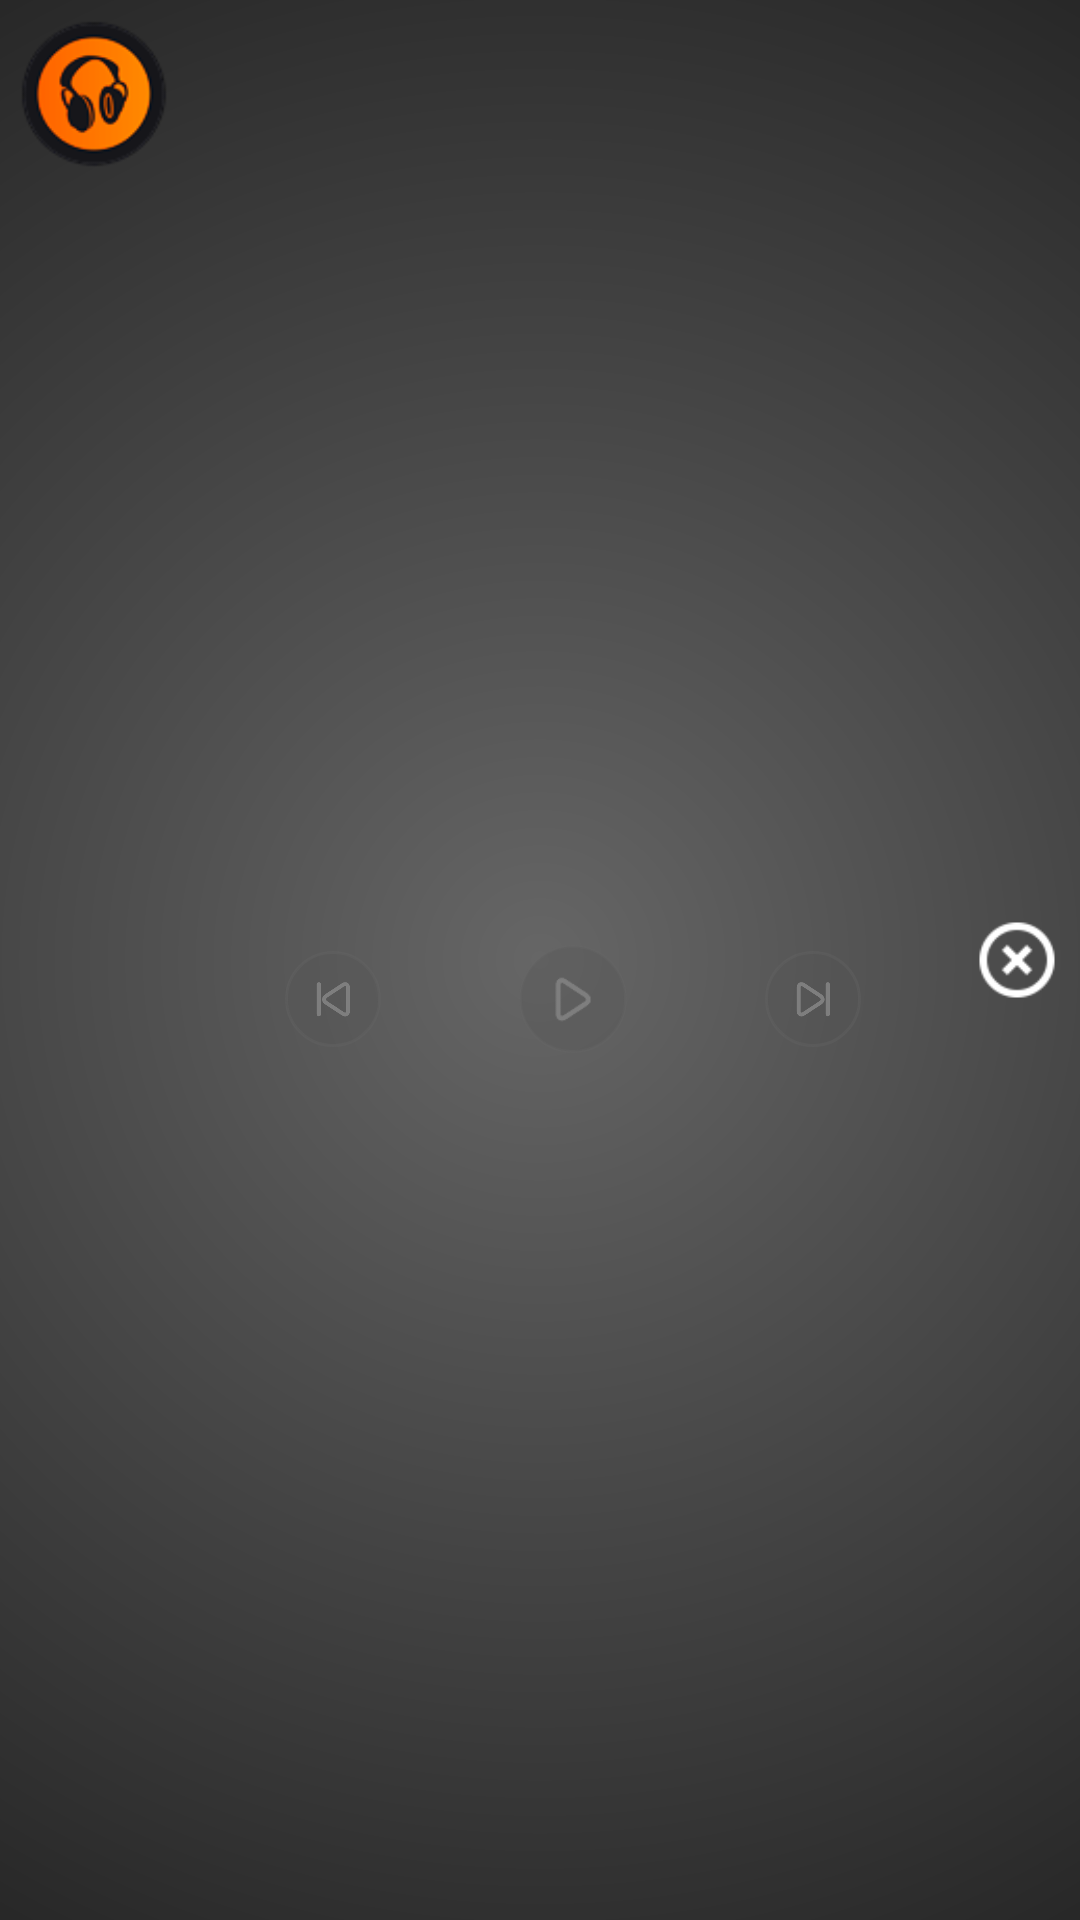

Icon click points for this 1080×1920 phone screenshot, format (x,y):
close circle: (1017,960)
next: (813,999)
play: (573,999)
previous: (333,999)
